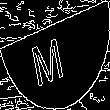M_N: (36, 24, 74, 86)
